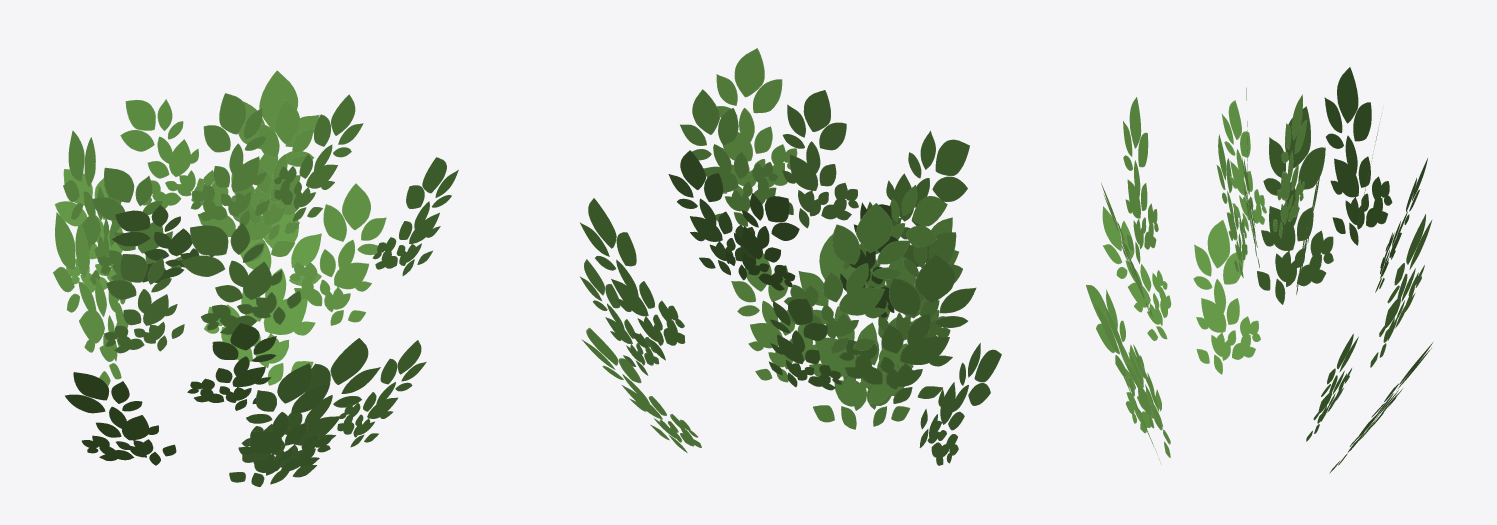
The model's file is bush_1.fbx.
The picture shows the model from 3 angles, left to right: view 1: azimuth 30°, elevation 25°; view 2: azimuth 150°, elevation 25°; view 3: azimuth 270°, elevation 25°; orthographic projection.
Parts seen in each view (by area): view 1: Little_A2; view 2: Little_A2; view 3: Little_A2.
Part boxes in pixels (bbox=[...]): Little_A2: bbox=[53, 70, 458, 486]; Little_A2: bbox=[580, 48, 1001, 465]; Little_A2: bbox=[1086, 67, 1432, 473].
Bounding box in the file's own units: 1.24 × 1.17 × 1.
